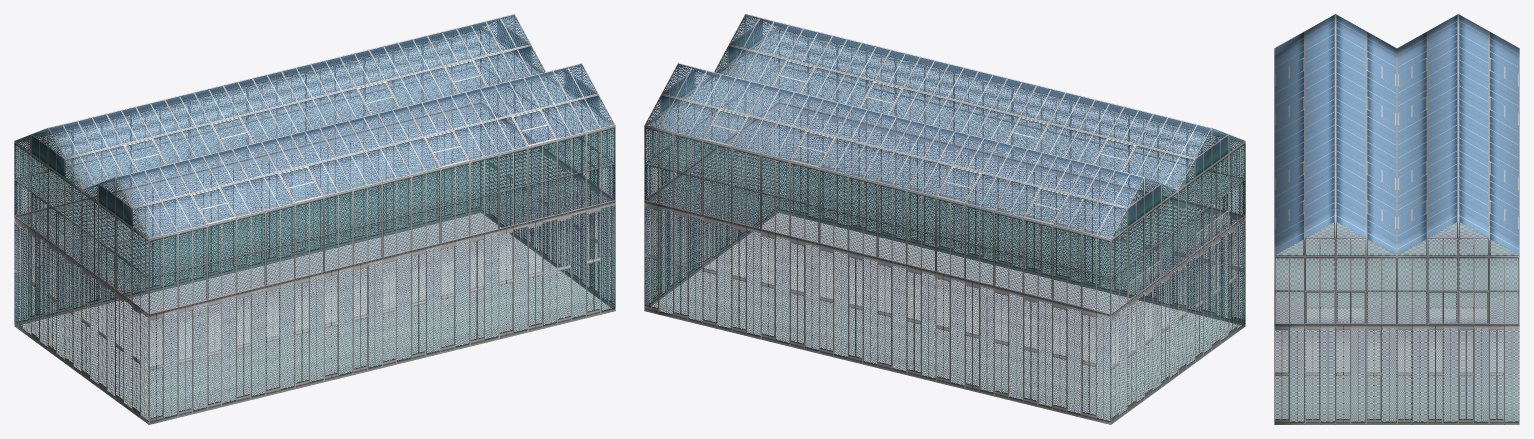
Rendered from kas_mod3_1a.fbx.
The picture shows the model from 3 angles, left to right: view 1: azimuth 30°, elevation 25°; view 2: azimuth 150°, elevation 25°; view 3: azimuth 270°, elevation 25°; orthographic projection. The views are drawn at different scales.
Visible parts, largest first — view 1: kas_mod3_1a; view 2: kas_mod3_1a; view 3: kas_mod3_1a.
Boxes of the visible parts, left/top/right/bottom form: kas_mod3_1a: left=14, top=14, right=615, bottom=424; kas_mod3_1a: left=644, top=14, right=1245, bottom=424; kas_mod3_1a: left=1274, top=14, right=1519, bottom=424.
Bounding box in the file's own units: 4000 × 1829 × 2000.
